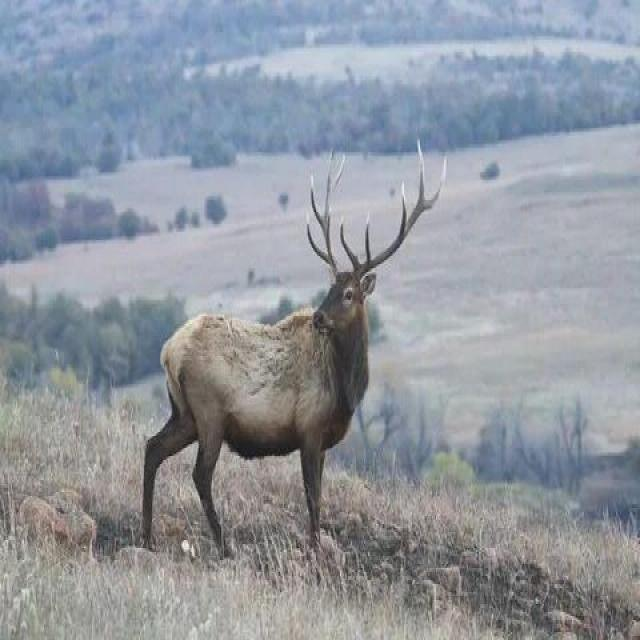deer: (133, 136, 454, 520)
